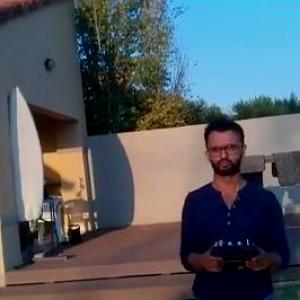follow: (169, 105, 293, 299)
